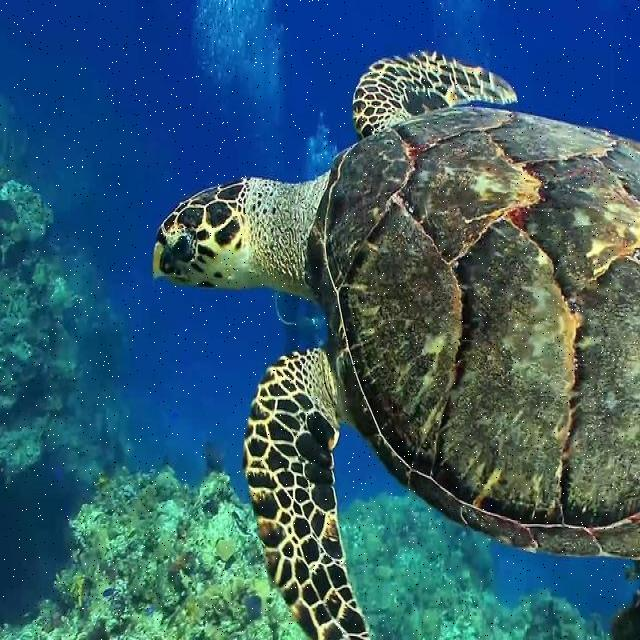fish: (148, 43, 638, 639)
